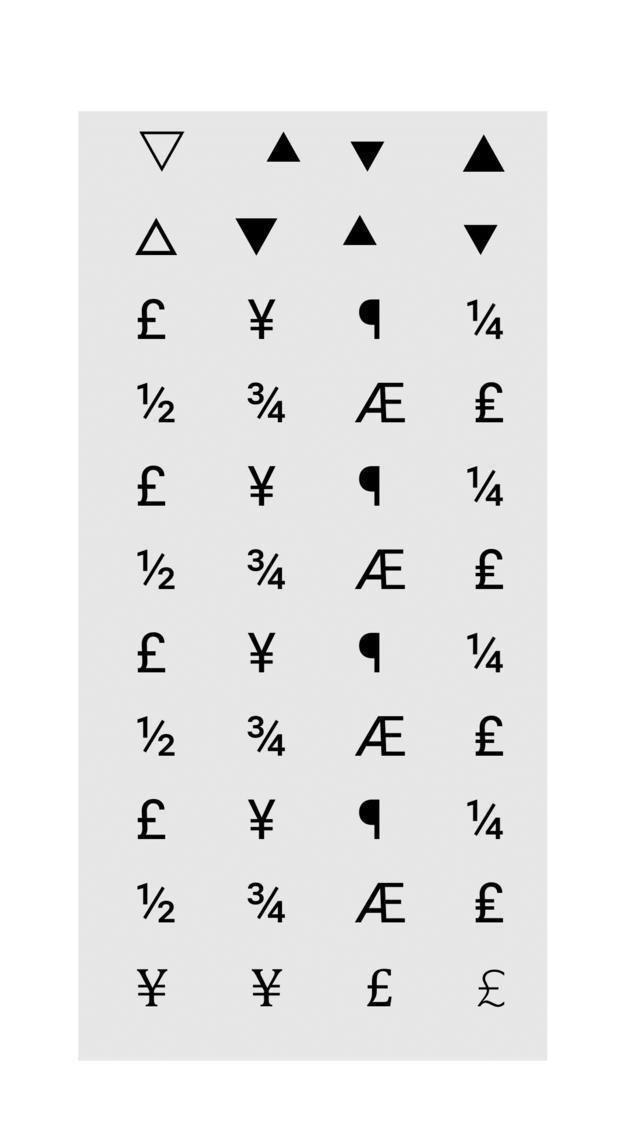ASCII: (347, 374, 415, 431), (354, 706, 410, 767), (347, 544, 409, 594), (352, 876, 410, 928), (231, 206, 280, 266), (243, 375, 290, 434), (243, 538, 290, 597), (135, 543, 180, 604), (243, 706, 290, 764), (135, 376, 180, 436), (464, 458, 508, 516), (244, 874, 289, 930), (135, 708, 180, 764), (464, 292, 508, 349), (464, 793, 508, 850), (137, 125, 186, 176), (464, 627, 508, 683), (136, 874, 180, 930), (133, 216, 180, 268), (248, 959, 288, 1019), (466, 962, 514, 1012), (133, 294, 172, 354), (469, 872, 508, 932), (134, 958, 172, 1019), (134, 456, 172, 517), (462, 132, 509, 181), (134, 624, 172, 684), (470, 376, 508, 436), (470, 709, 508, 769), (470, 542, 508, 602), (243, 456, 280, 516), (134, 791, 171, 850), (363, 960, 399, 1018), (243, 290, 280, 346), (243, 626, 280, 682), (243, 790, 280, 846), (461, 216, 501, 264), (348, 130, 388, 178), (342, 214, 380, 261), (264, 129, 303, 174), (354, 458, 384, 514), (354, 292, 386, 344), (354, 627, 384, 680), (354, 790, 384, 842)
